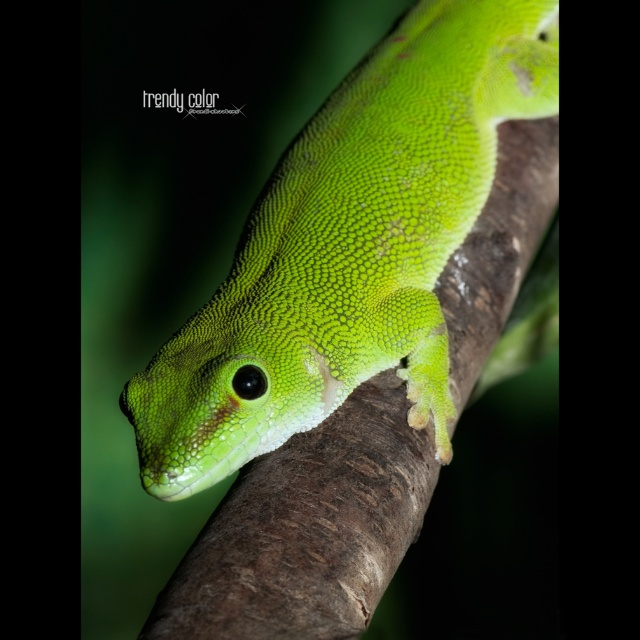Lizard: (118, 0, 559, 503)
